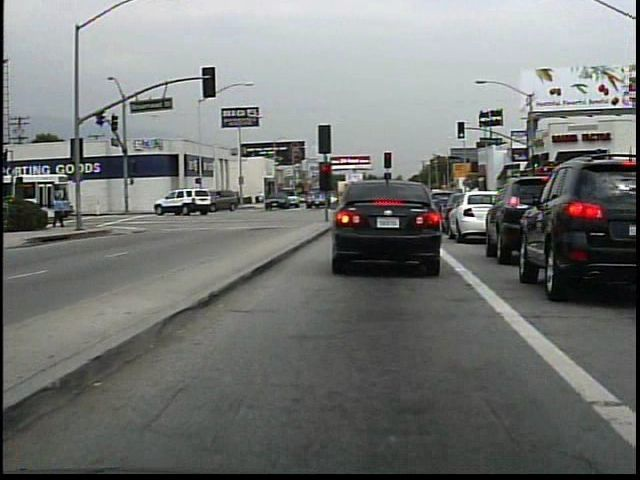person: (53, 192, 71, 232), (259, 187, 267, 209)
